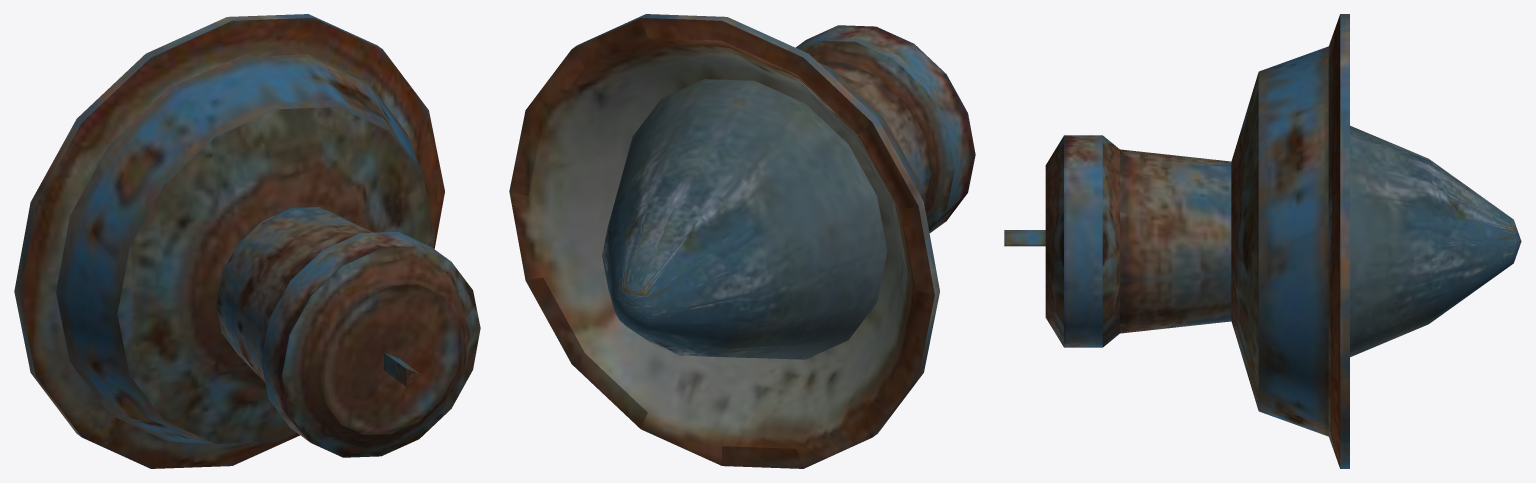
Rendered from prop_lamp01.glb.
The picture shows the model from 3 angles, left to right: view 1: azimuth 30°, elevation 25°; view 2: azimuth 150°, elevation 25°; view 3: azimuth 270°, elevation 25°; orthographic projection. The views are drawn at different scales.
Size of the model in its own units: 19.72 by 19.72 by 22.39.
2 materials, 2 textured.
